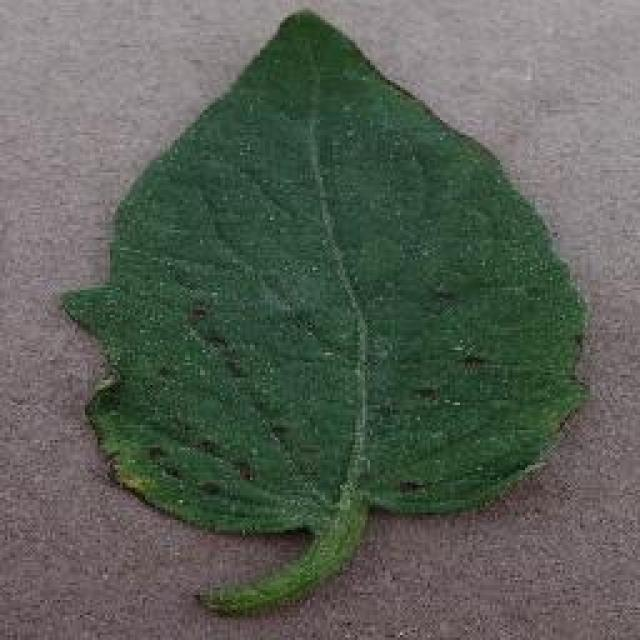Tomato___Bacterial_spot: (46, 8, 598, 619)
